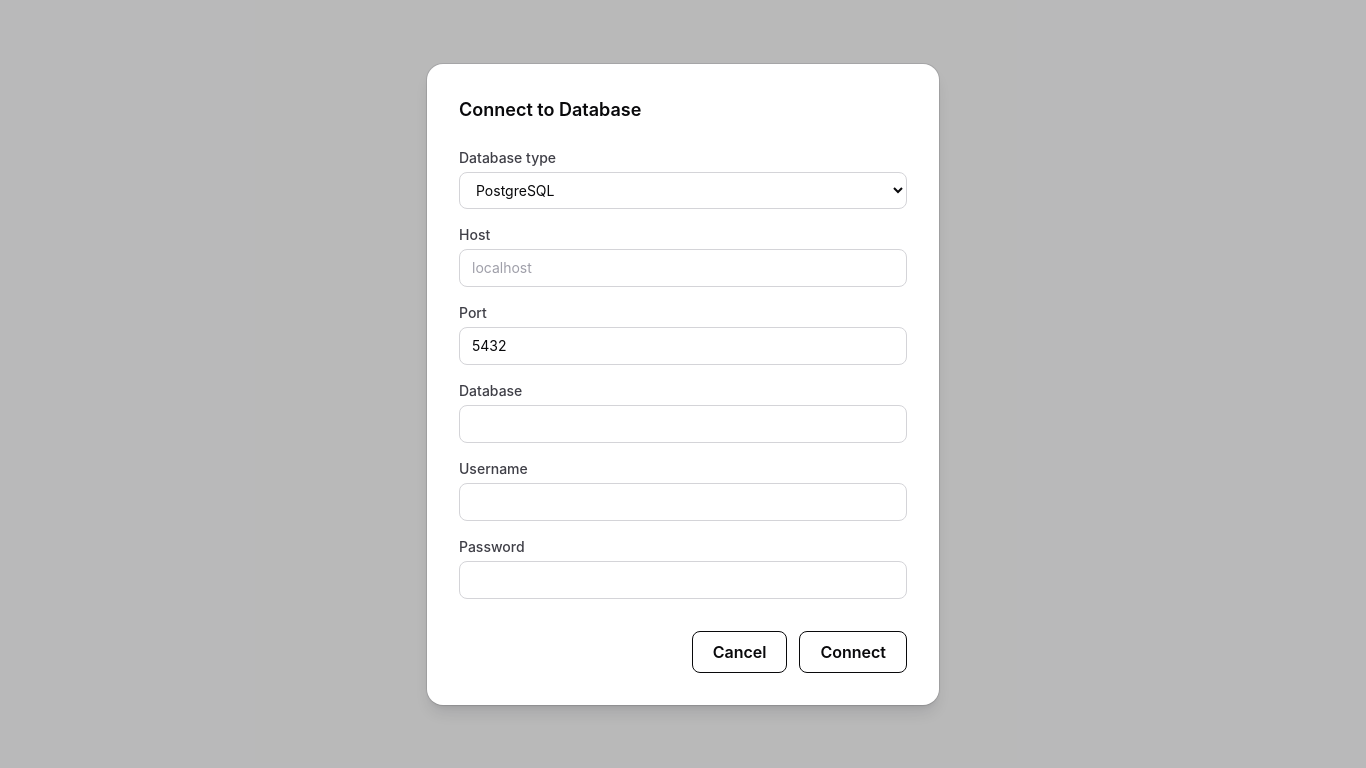
Test case: ConnectionDialog › resets all fields when the dialog is closed
The width and height of the screenshot is (1366, 768).
Note: Fill in PostgreSQL fields
Type "prod-server" into the field labelled "Host" at (683, 268), box [459,248,907,286]
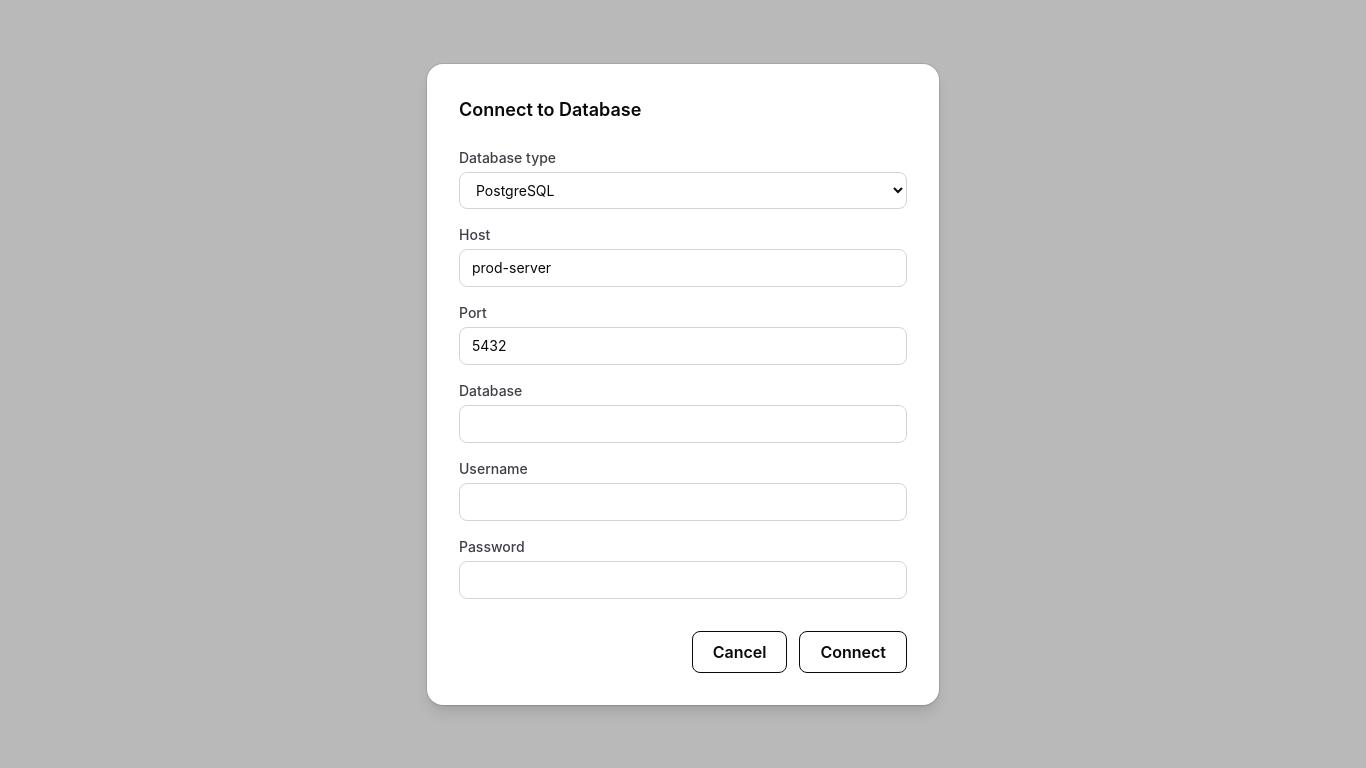
Type "mydb" into the field labelled "Database" at (683, 424), box [459,404,907,442]
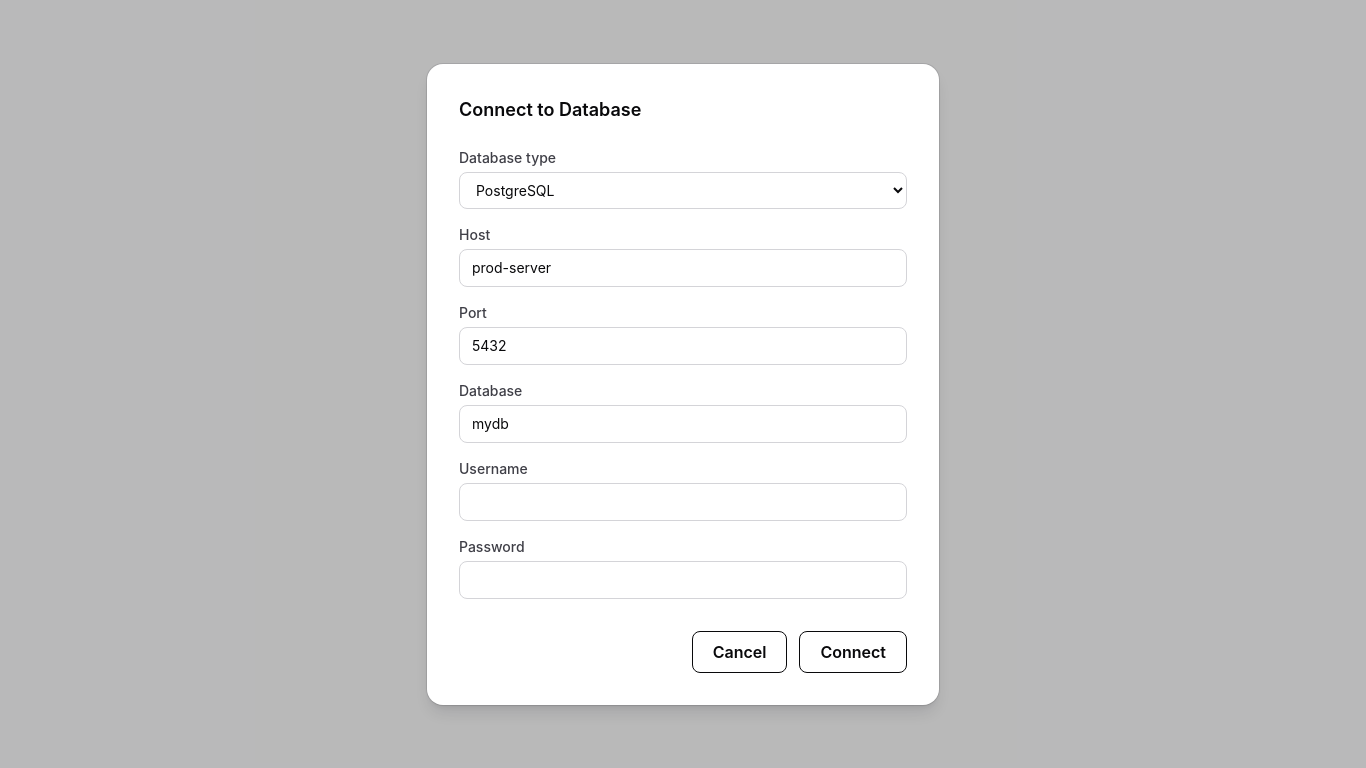
Type "admin" into the field labelled "Username" at (683, 502), box [459,482,907,520]
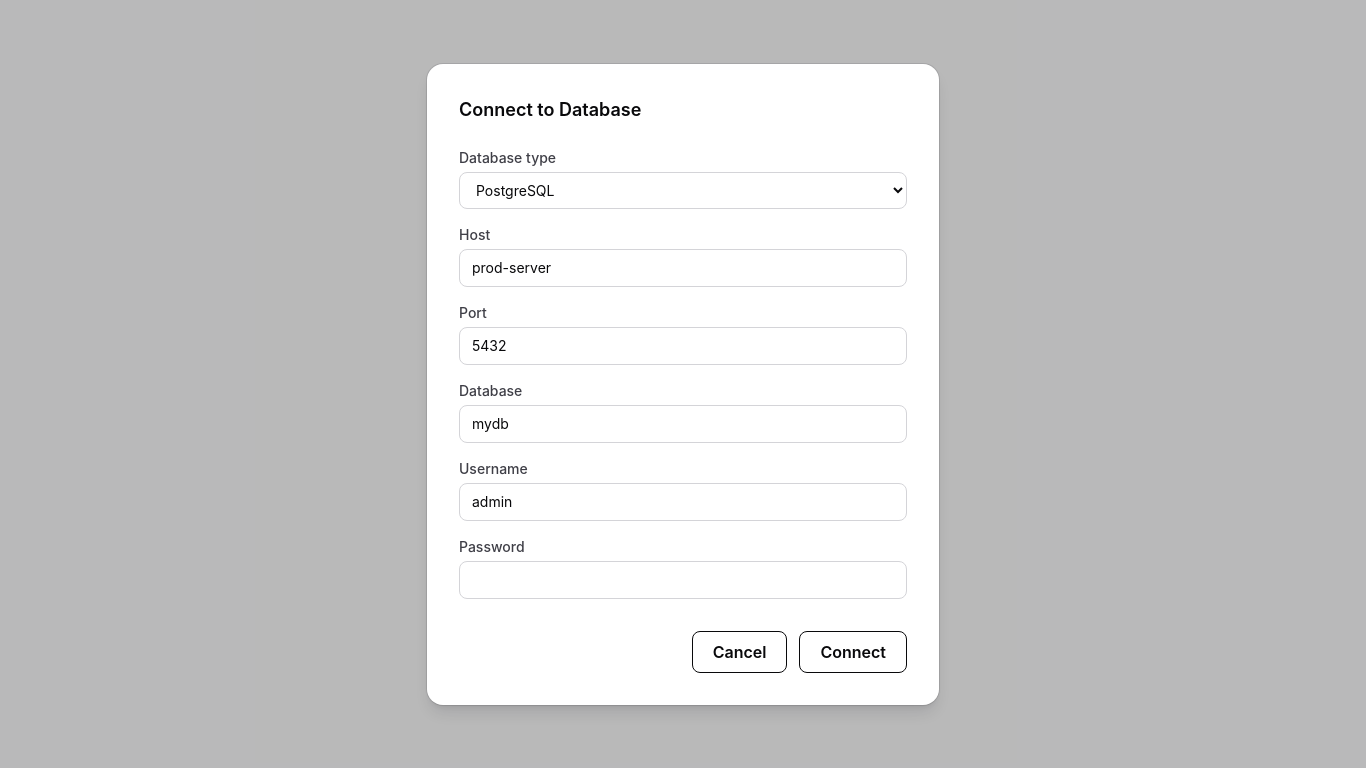
Type "supersecret" into the password field labelled "Password" at (683, 580), box [459,560,907,598]
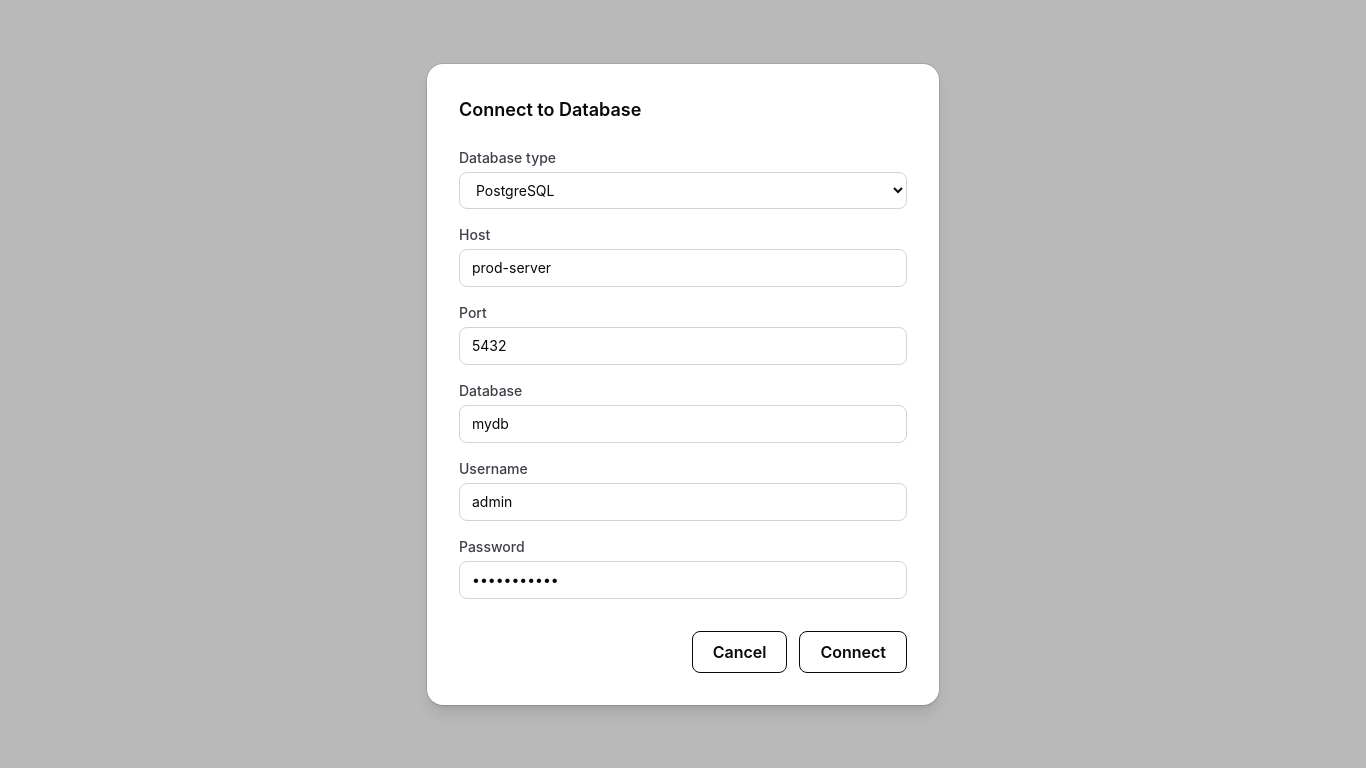
Note: Close (cancel)
Click the button "Cancel" at (740, 652), box [692,630,787,672]
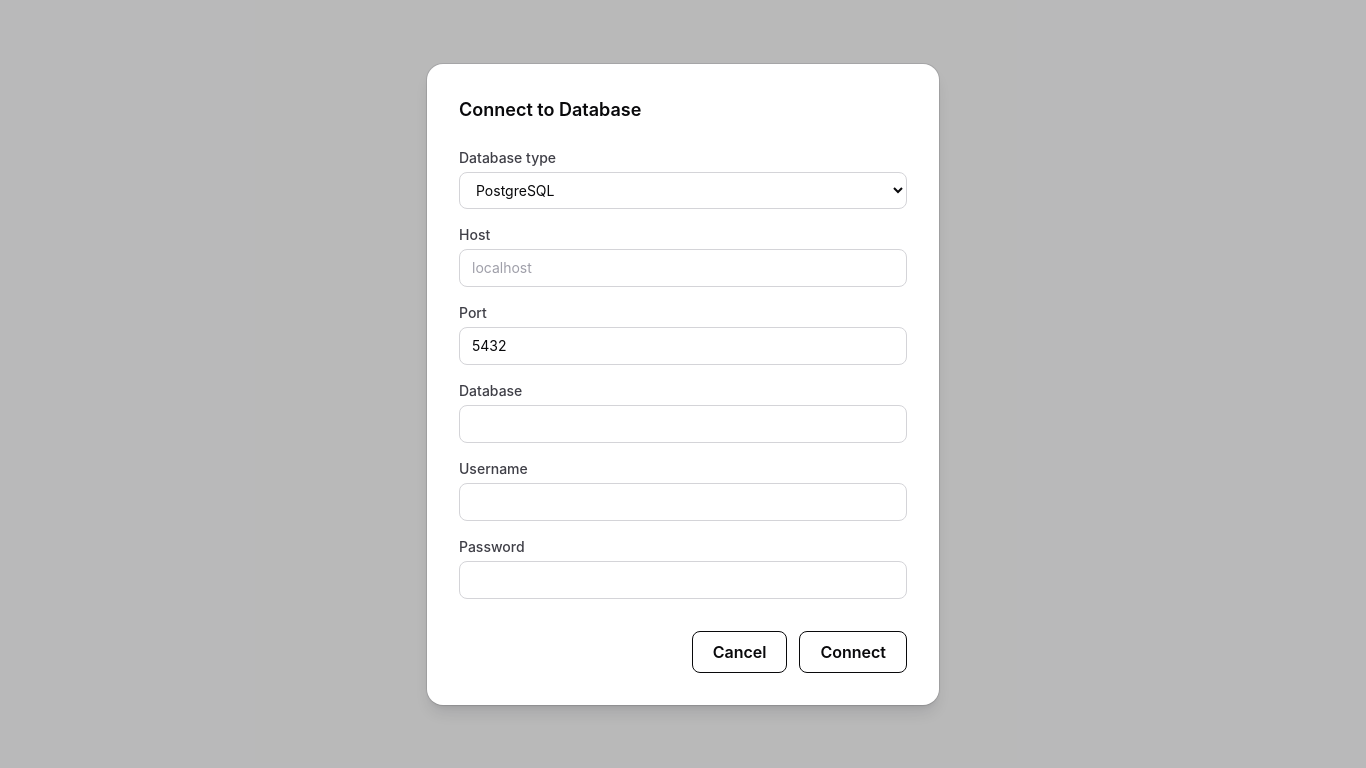
Now the field labelled "Host" is empty, box [459,248,907,286]
Now the password field labelled "Password" is empty, box [459,560,907,598]
